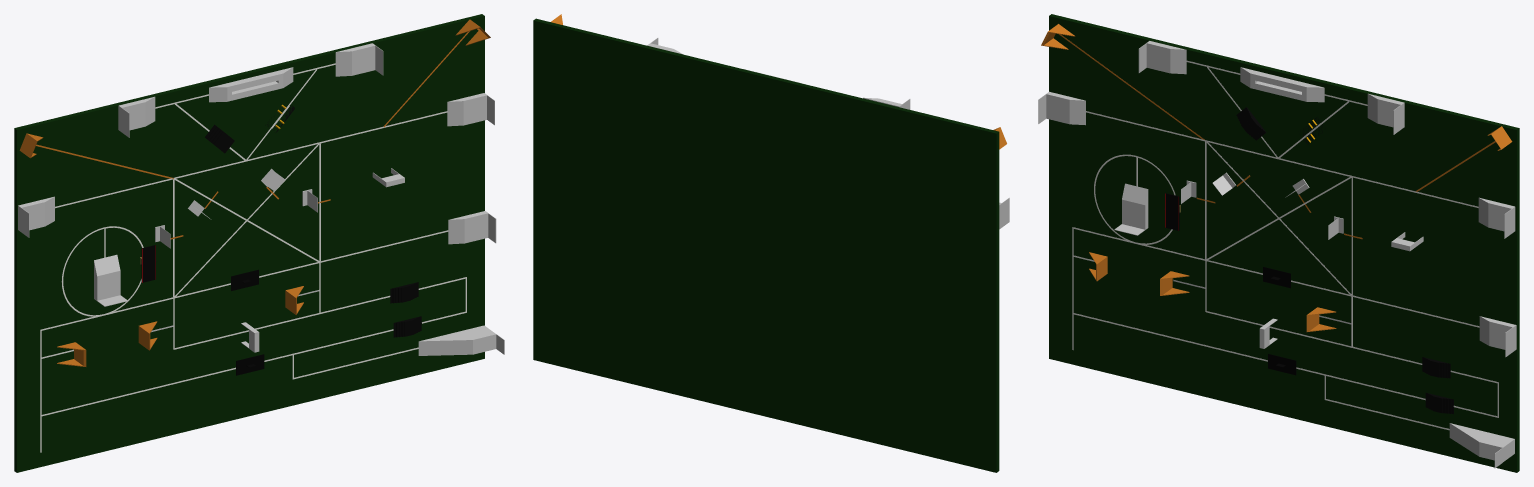
File: whole_world_visual.obj
3 views of the same model, side by side, from view 1: azimuth 30°, elevation 25°; view 2: azimuth 150°, elevation 25°; view 3: azimuth 330°, elevation 25° (orthographic).
Parts seen in each view (by area): view 1: 立方体.003, 立方体.002, 立方体, 立方体.001, 立方体.007, 立方体.006, 立方体.008, 立方体.004, 立方体.005, 立方体.012, 立方体.015, 立方体.021 (+2 smaller); view 2: 立方体.003; view 3: 立方体.003, 立方体, 立方体.002, 立方体.004, 立方体.005, 立方体.008, 立方体.007, 立方体.001, 立方体.006, 立方体.012, 立方体.015, 立方体.021 (+3 smaller).
Part boxes in pixels (box(x1,y1,x2,y2)): 立方体.003: box(14, 14, 484, 472); 立方体.002: box(418, 325, 504, 355); 立方体: box(209, 67, 293, 102); 立方体.001: box(335, 43, 383, 76); 立方体.007: box(448, 211, 496, 244); 立方体.006: box(447, 93, 494, 126); 立方体.008: box(94, 254, 127, 306); 立方体.004: box(118, 96, 155, 137); 立方体.005: box(18, 196, 54, 237); 立方体.012: box(55, 111, 447, 208); 立方体.015: box(40, 230, 448, 330); 立方体.021: box(41, 311, 466, 416); 立方体.003: box(533, 18, 999, 472); 立方体.003: box(1049, 14, 1519, 472); 立方体: box(1240, 67, 1324, 102); 立方体.002: box(1449, 423, 1514, 468); 立方体.004: box(1138, 41, 1186, 74); 立方体.005: box(1038, 91, 1085, 125); 立方体.008: box(1114, 183, 1148, 235); 立方体.007: box(1479, 316, 1516, 357); 立方体.001: box(1367, 93, 1404, 134); 立方体.006: box(1478, 197, 1515, 238); 立方体.012: box(1086, 111, 1478, 207); 立方体.015: box(1072, 227, 1479, 327); 立方体.021: box(1073, 313, 1498, 417).
Bounding box in the file's own units: 10 × 7.01 × 0.875.
